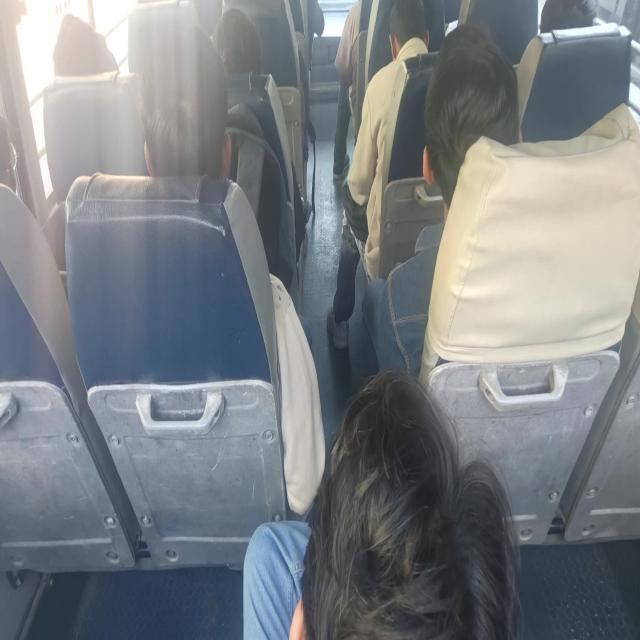person: (308, 369, 497, 640), (420, 49, 526, 200), (141, 44, 230, 193), (48, 11, 117, 75), (219, 6, 262, 83), (386, 0, 436, 65), (540, 0, 603, 41)
